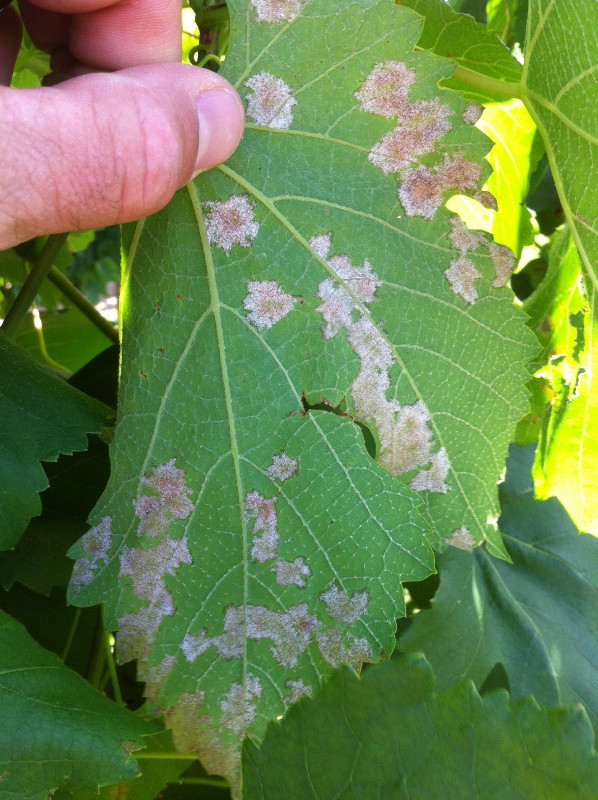downy: (303, 232, 449, 503), (354, 59, 455, 164), (185, 603, 314, 666), (395, 164, 494, 223), (120, 537, 172, 646), (242, 66, 307, 141), (135, 457, 196, 536), (452, 225, 513, 302), (199, 193, 266, 255), (239, 272, 302, 337), (317, 628, 374, 672), (242, 490, 277, 560), (319, 578, 369, 623), (228, 674, 265, 727), (166, 692, 210, 735), (84, 514, 110, 583), (247, 1, 310, 24), (277, 555, 309, 593), (188, 743, 232, 769), (264, 453, 296, 484), (279, 673, 309, 701)
